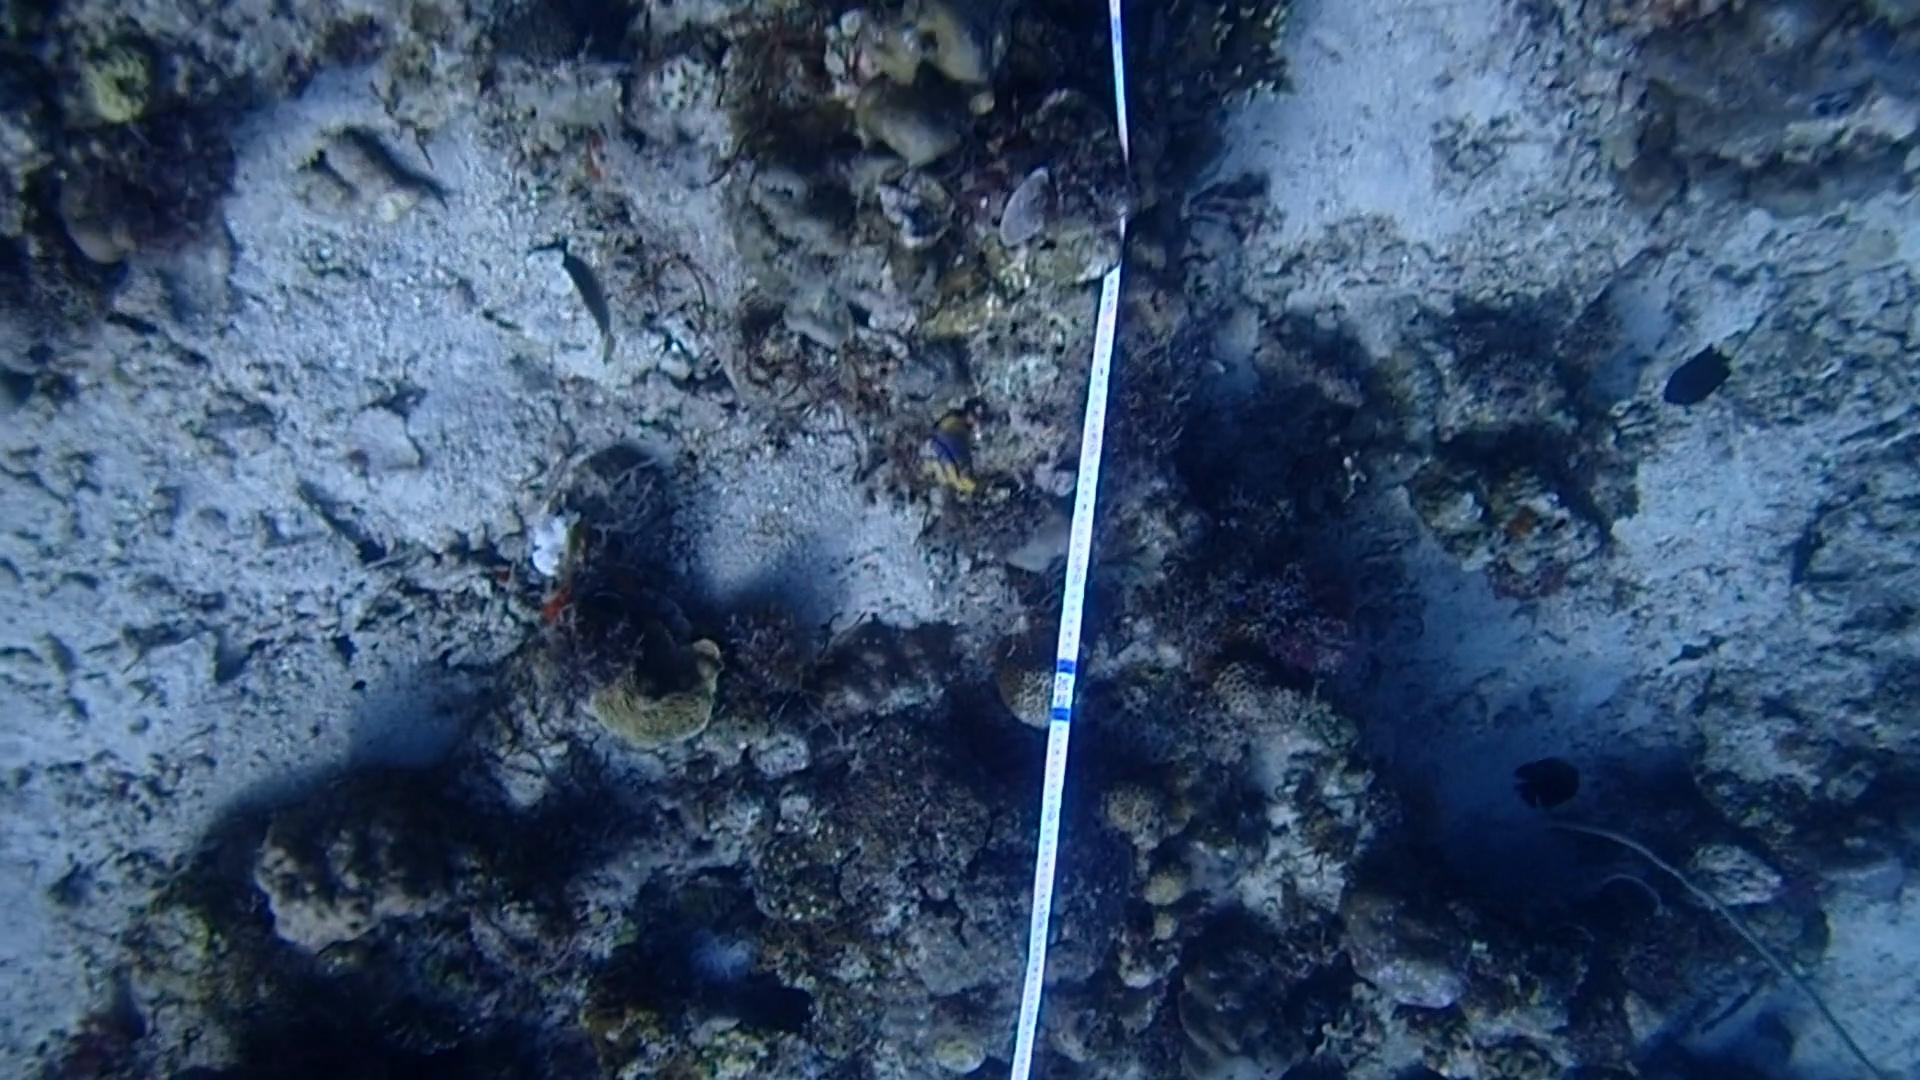Dark Fish: (692, 965, 825, 1043), (1498, 746, 1588, 827), (1650, 340, 1733, 419)
Light Fish: (545, 247, 632, 372)
